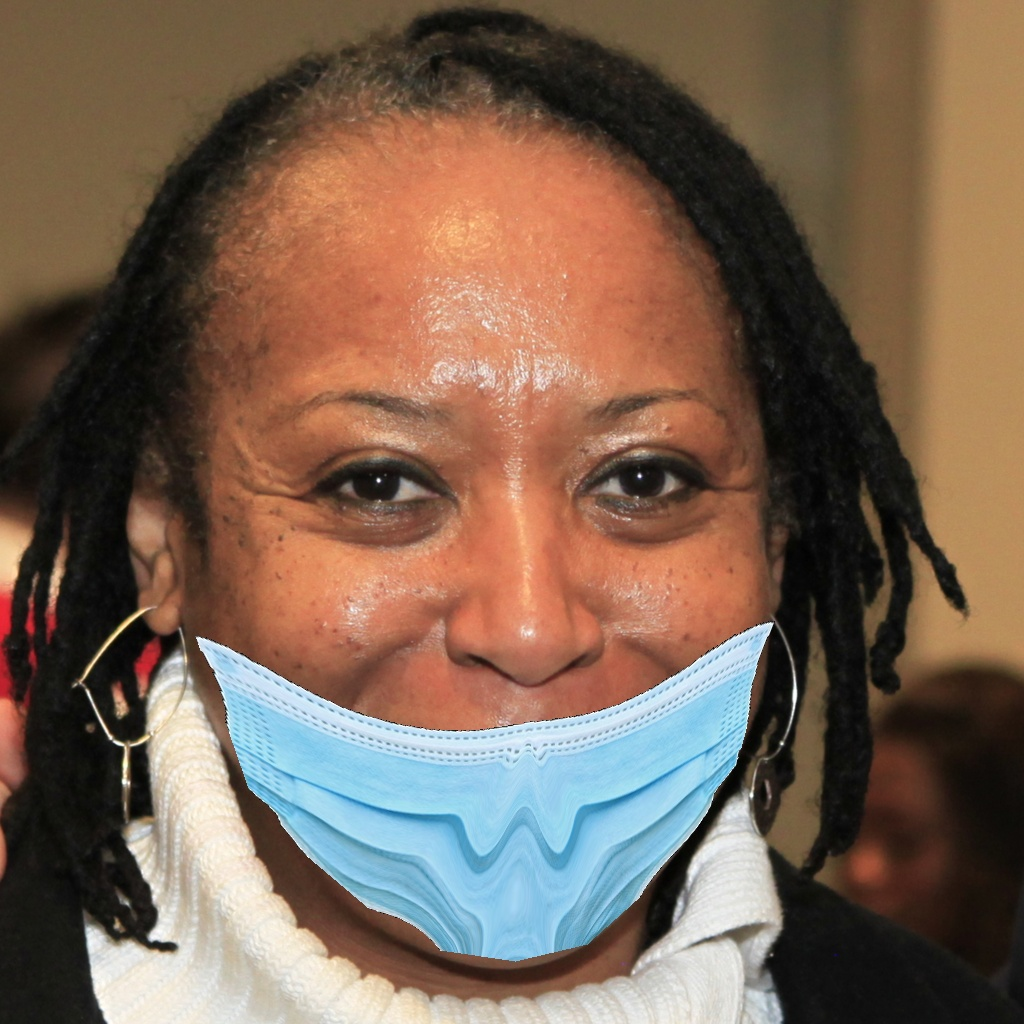mascarilla_mal_puesta: (164, 320, 794, 955)
